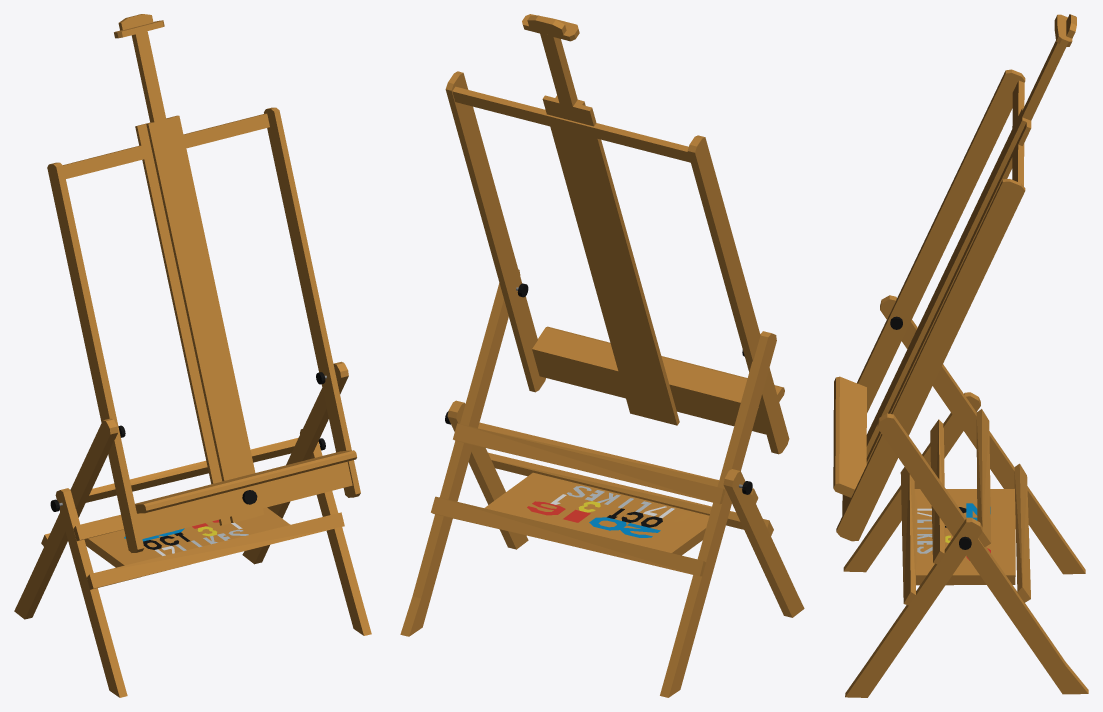
3 views of the same model, side by side, from view 1: azimuth 30°, elevation 25°; view 2: azimuth 150°, elevation 25°; view 3: azimuth 270°, elevation 25° (orthographic). The views are drawn at different scales.
Parts seen in each view (by area): view 1: node_MeshObject721328384-PolyPaper19; view 2: node_MeshObject721328384-PolyPaper19; view 3: node_MeshObject721328384-PolyPaper19.
Part boxes in pixels (x1=…): node_MeshObject721328384-PolyPaper19: x1=14, y1=14, x2=371, y2=697; node_MeshObject721328384-PolyPaper19: x1=400, y1=14, x2=804, y2=697; node_MeshObject721328384-PolyPaper19: x1=833, y1=14, x2=1088, y2=697.
Bounding box in the file's own units: 2.07 × 4.24 × 1.6.
